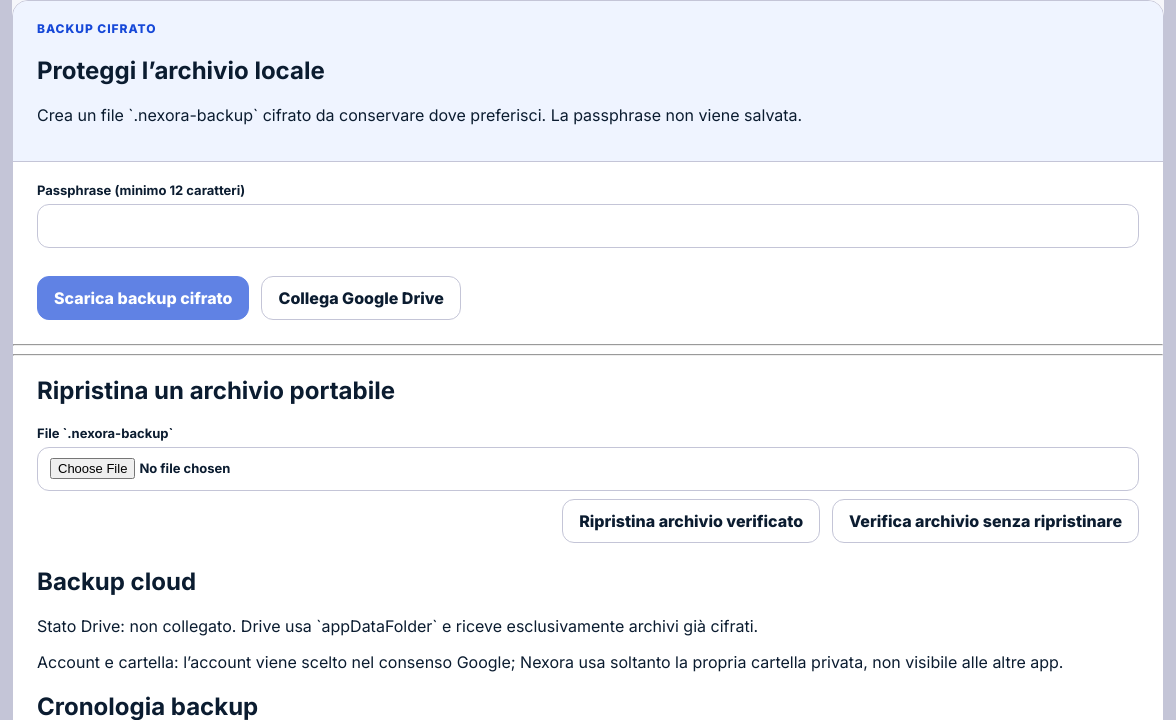
Scenario: BackupPage › rende accessibile l'errore se il popup Google viene chiuso
Click the button "Collega Google Drive": (361, 298) [262,276,461,320]
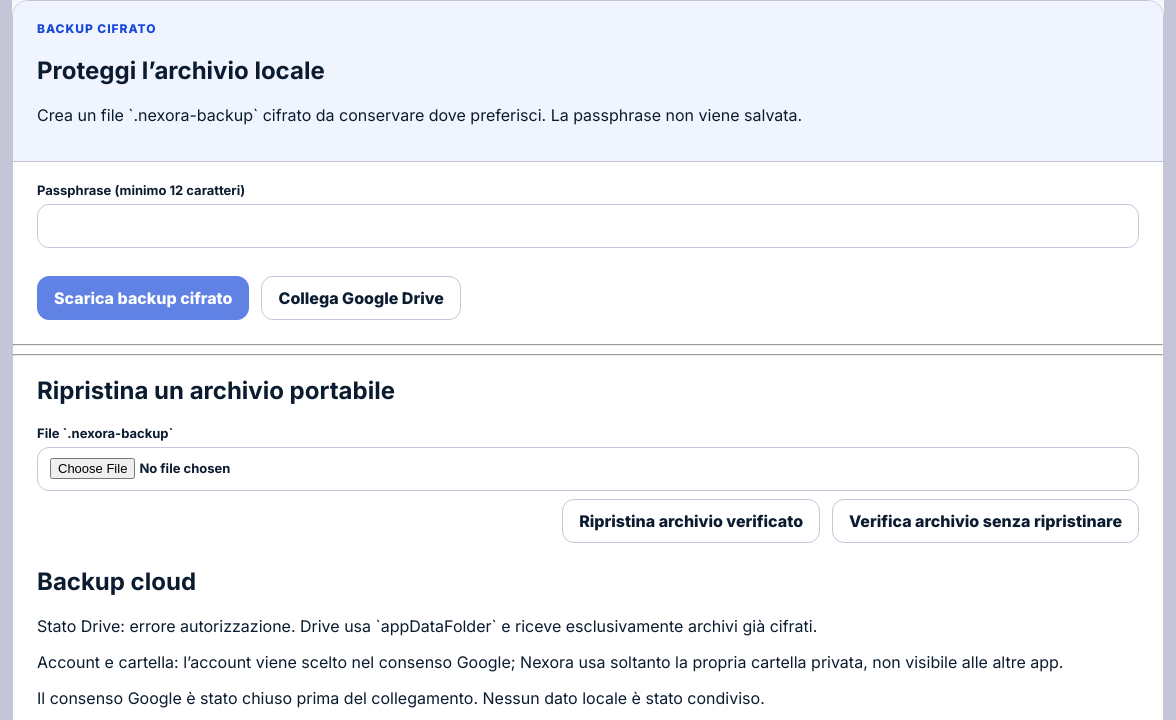
Result: the message shows "Il consenso Google è stato chiuso prima del collegamento" at [37,688,765,708]
